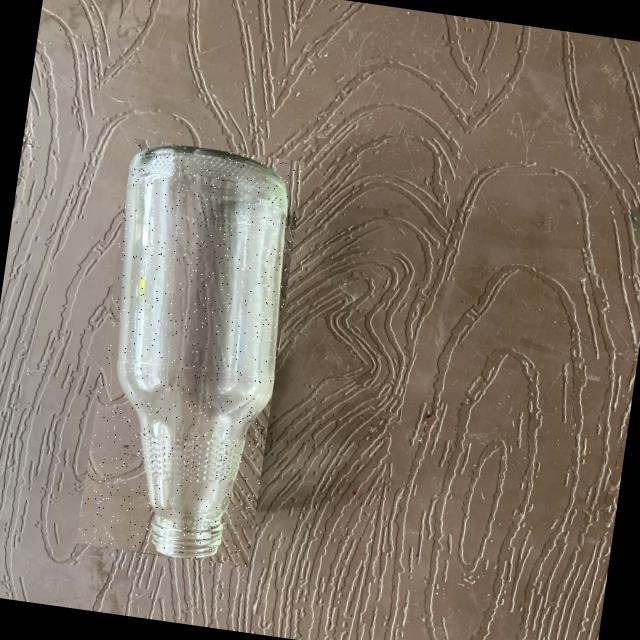Glass_Bottle: (117, 145, 287, 556)
